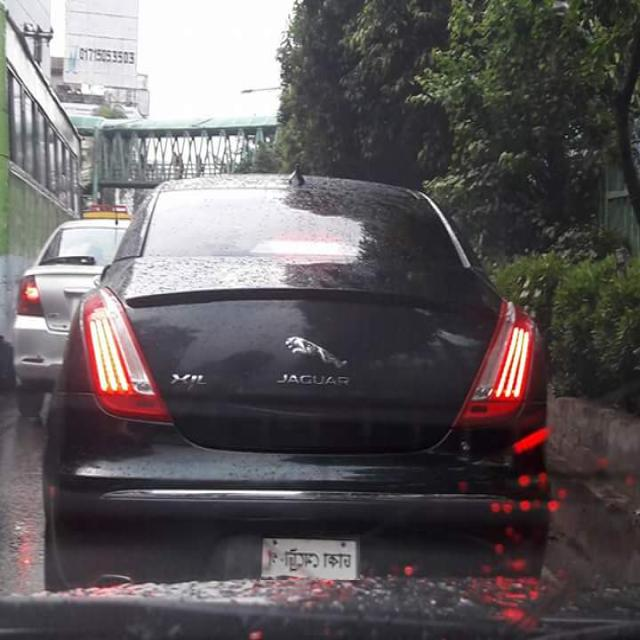numberplate: (261, 534, 360, 580)
